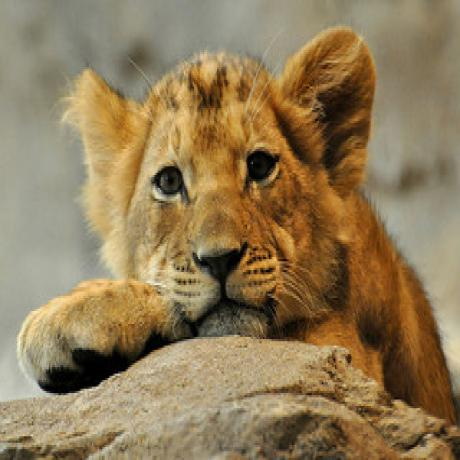Lion: (18, 24, 459, 425)
